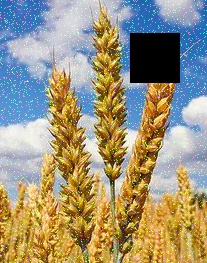wheat: (118, 67, 168, 258), (44, 58, 90, 253), (91, 5, 129, 182)
